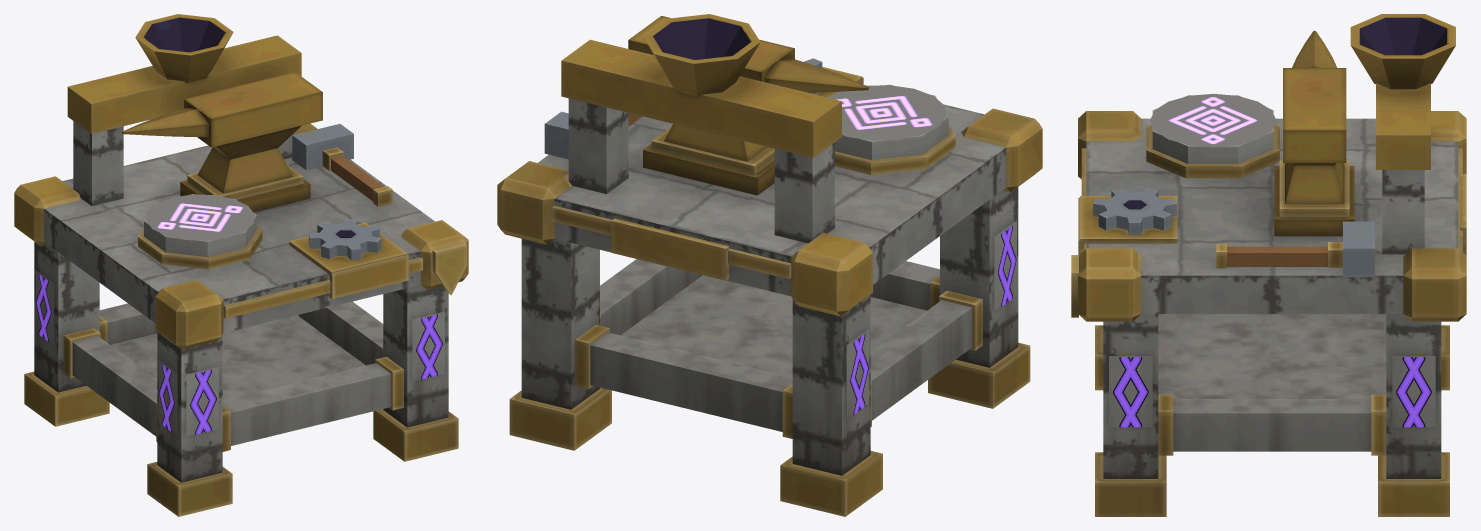
The model's file is artificer_bench_low.glb.
The picture shows the model from 3 angles, left to right: view 1: azimuth 30°, elevation 25°; view 2: azimuth 150°, elevation 25°; view 3: azimuth 270°, elevation 25°; orthographic projection. The views are drawn at different scales.
Parts seen in each view (by area): view 1: bench_body, glow_runes_disc, anim_drill_circle, glow_runes; view 2: bench_body, glow_runes_disc, anim_drill_circle, glow_runes; view 3: bench_body, glow_runes_disc, anim_drill_circle, glow_runes.
Boxes of the visible parts, x1,y1,x2,y2 form: bench_body: (14,14,468,516); glow_runes_disc: (145,194,254,240); anim_drill_circle: (138,194,262,269); glow_runes: (36,274,442,434); bench_body: (497,14,1042,516); glow_runes_disc: (827,85,946,140); anim_drill_circle: (835,84,955,175); glow_runes: (850,225,1016,414); bench_body: (1071,14,1466,516); glow_runes_disc: (1150,93,1276,147); anim_drill_circle: (1146,95,1279,178); glow_runes: (1113,357,1431,427).
Bounding box in the file's own units: 0.92 × 1.05 × 0.936.
Materials: 4 (3 with a texture image).
